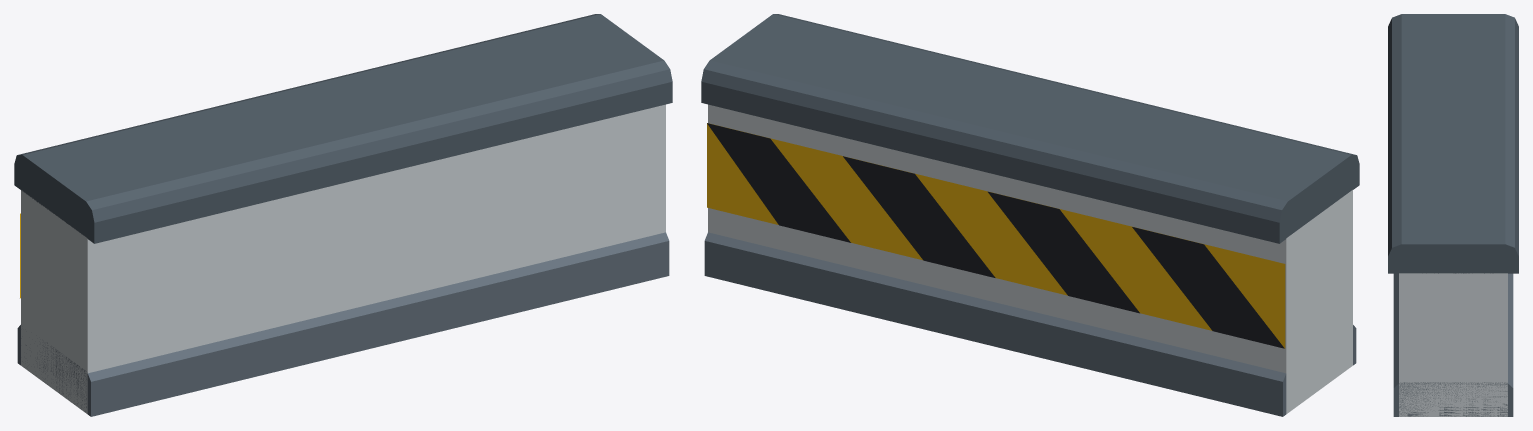
File: wand_sockel.glb
3 views of the same model, side by side, from view 1: azimuth 30°, elevation 25°; view 2: azimuth 150°, elevation 25°; view 3: azimuth 270°, elevation 25° (orthographic). The views are drawn at different scales.
Visible parts, largest first — view 1: wand_sockel; view 2: wand_sockel; view 3: wand_sockel.
Boxes of the visible parts, x1,y1,x2,y2 form: wand_sockel: (14,14,672,416); wand_sockel: (701,14,1359,416); wand_sockel: (1388,14,1518,416).
Size of the model in its own units: 1 by 0.35 by 0.24.
